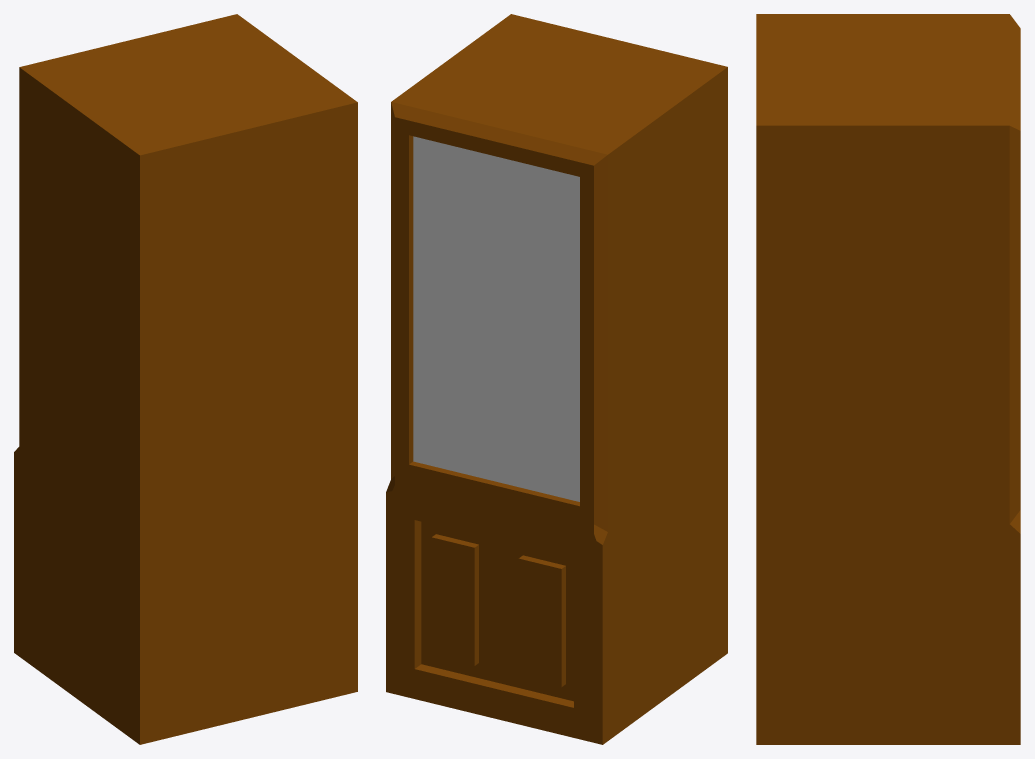
Rendered from Bookshelf_invisible_plane.fbx.
3 renders of one model, left to right at view 1: azimuth 30°, elevation 25°; view 2: azimuth 150°, elevation 25°; view 3: azimuth 270°, elevation 25°, orthographic. The views are drawn at different scales.
Parts seen in each view (by area): view 1: Bookshelf; view 2: Bookshelf, Plane; view 3: Bookshelf.
Part boxes in pixels (bbox=[...]): Bookshelf: bbox=[14, 14, 357, 744]; Bookshelf: bbox=[386, 14, 727, 744]; Plane: bbox=[413, 136, 579, 501]; Bookshelf: bbox=[756, 14, 1020, 744].
Bounding box in the file's own units: 200 × 517 × 200.
